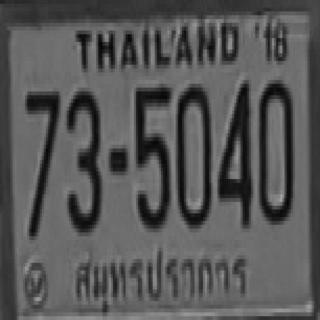N00: (257, 76, 293, 221), (176, 80, 209, 225)
N03: (65, 88, 100, 228)
N04: (218, 78, 251, 223)
N05: (134, 84, 170, 225)
N07: (23, 88, 58, 236)
P57: (69, 244, 251, 317)
